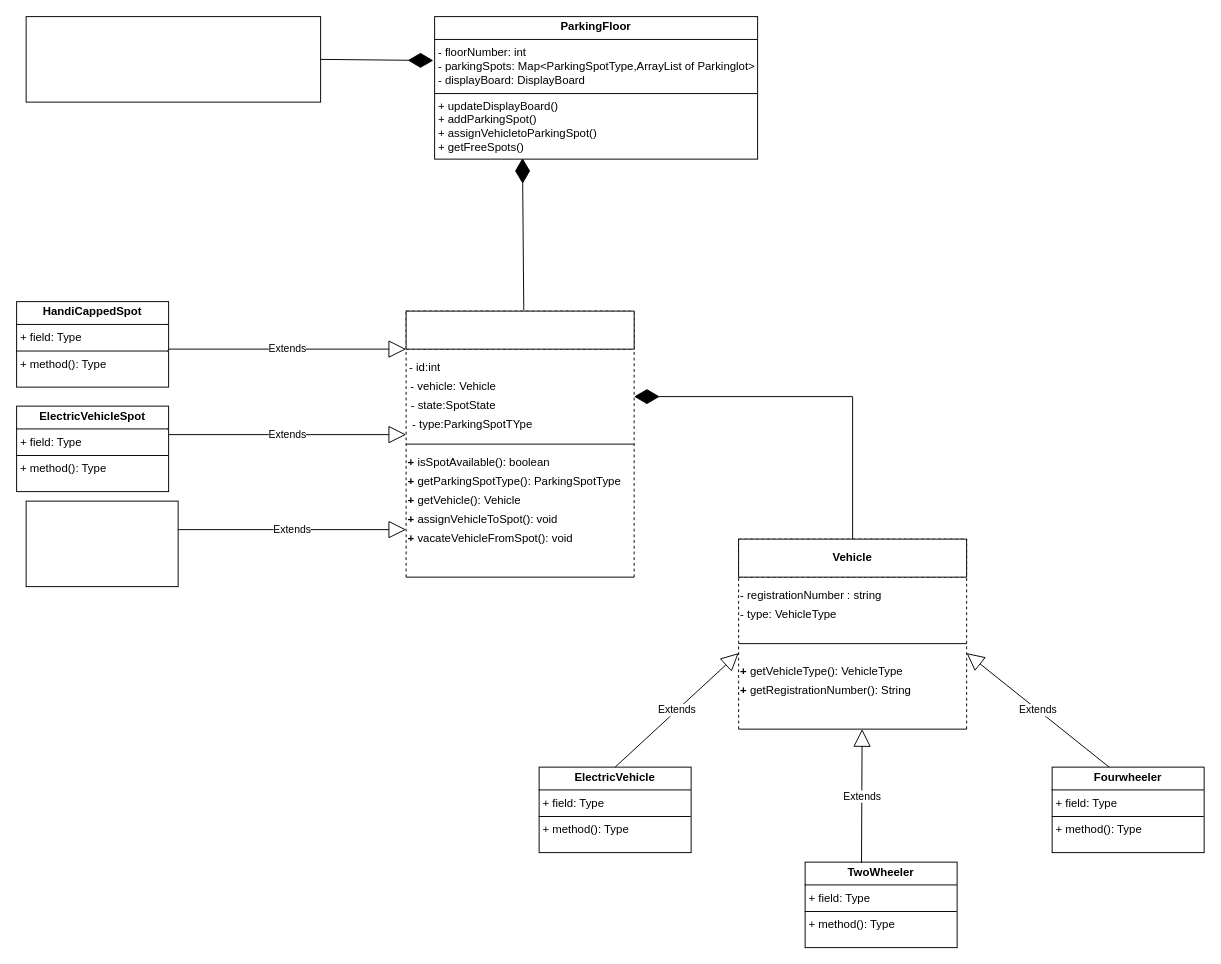
The diagram is 1221 pixels wide and 964 high, and some of its shapes have lost their labels. The centre of each missing label's shape, as x and y in pixels:
DisplayBoard + displayMessage(ParkingSpotType, freeSpots: int): void: the point at 173,59
LargeSpot + field: Type + method(): Type: the point at 101,543
ParkingSpot: the point at 519,329
